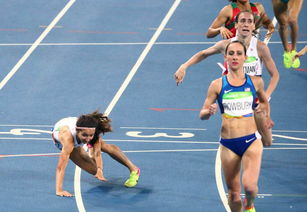fall: (46, 103, 142, 199)
